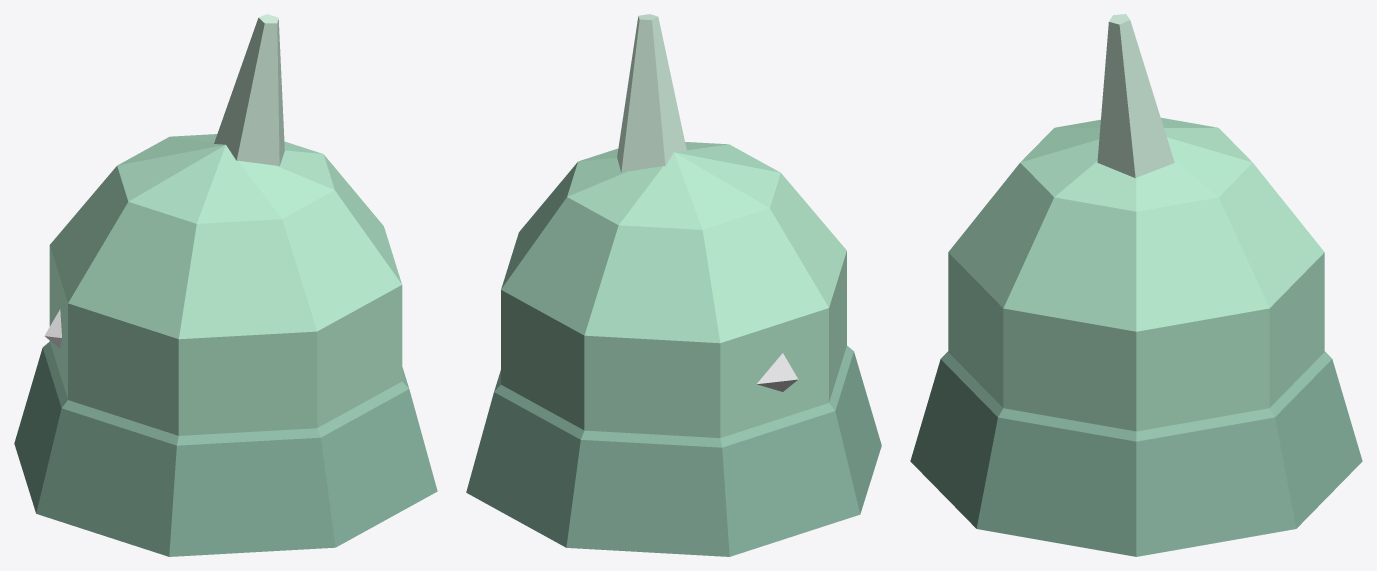
The model's file is bio_res_item.glb.
The picture shows the model from 3 angles, left to right: view 1: azimuth 30°, elevation 25°; view 2: azimuth 150°, elevation 25°; view 3: azimuth 270°, elevation 25°; orthographic projection. The views are drawn at different scales.
Visible parts, largest first — view 1: MintBody, MintBase, MintSprout; view 2: MintBody, MintBase, MintSprout, DiamondTop; view 3: MintBody, MintBase, MintSprout.
Boxes of the visible parts, box(x1,y1,x2,y2) form: MintBody: box(49, 134, 402, 435); MintBase: box(14, 341, 437, 556); MintSprout: box(214, 14, 284, 166); MintBody: box(501, 142, 846, 437); MintBase: box(466, 346, 881, 556); MintSprout: box(617, 14, 686, 173); DiamondTop: box(757, 353, 798, 383); MintBody: box(948, 117, 1324, 431); MintBase: box(910, 351, 1362, 556); MintSprout: box(1097, 14, 1174, 178).
Bounding box in the file's own units: 0.08 × 0.095 × 0.08.
